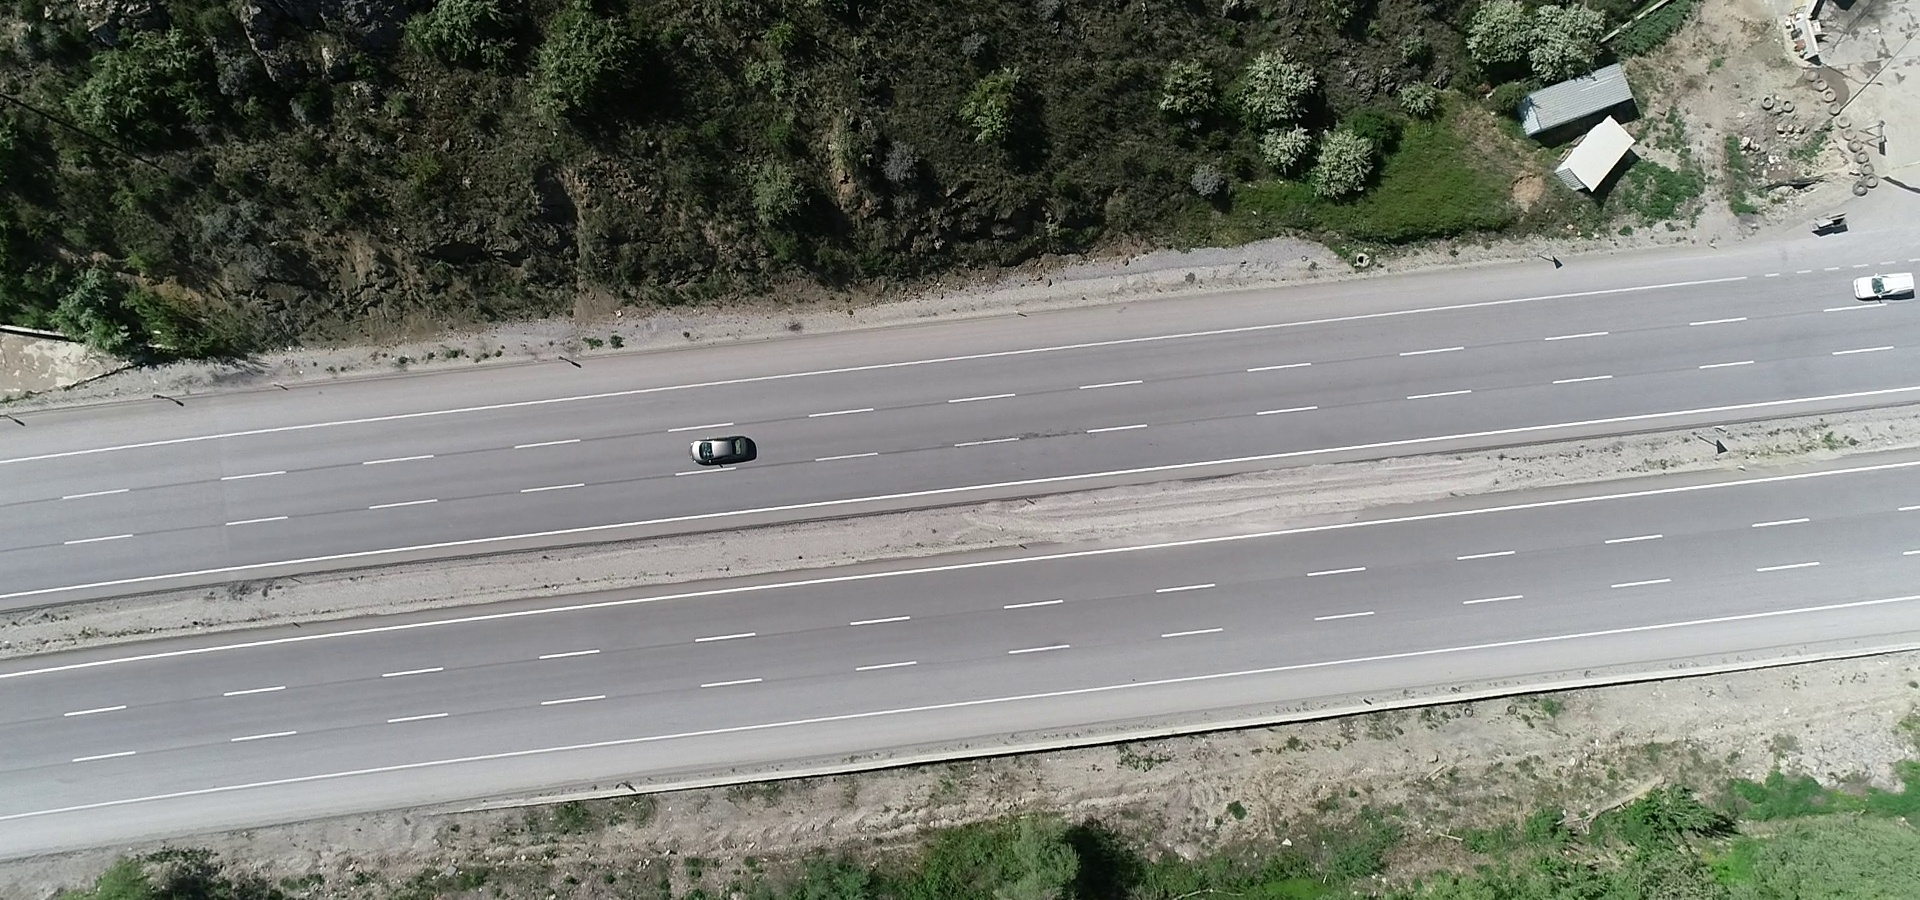araba: (689, 431, 764, 471), (1847, 272, 1920, 309)
